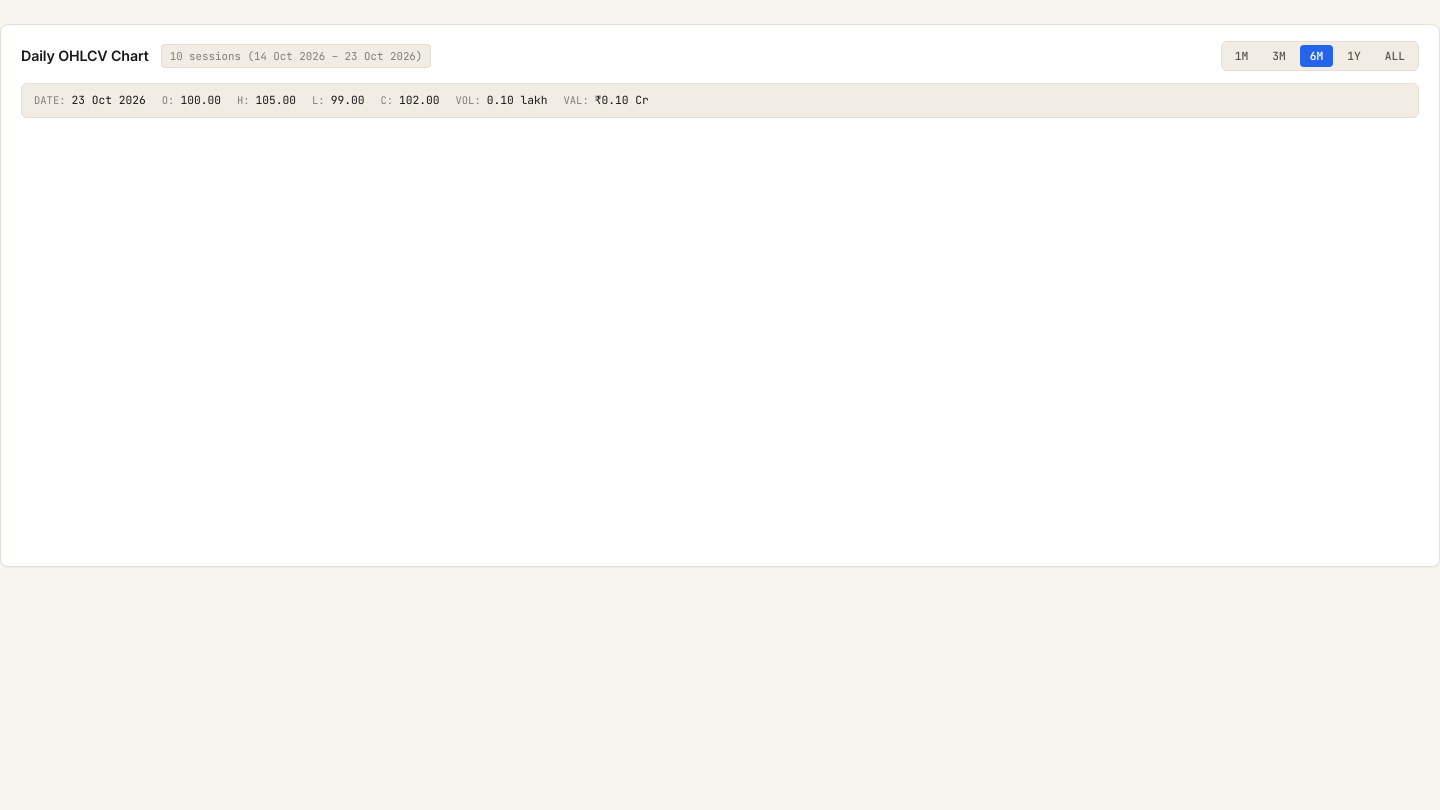
Scenario: PriceChart Component › fetches all available history without from date and shows coverage notice for limited sets
# Click ALL
Click the button "ALL".
click(1395, 56)  # box 1375,45 -> 1415,67
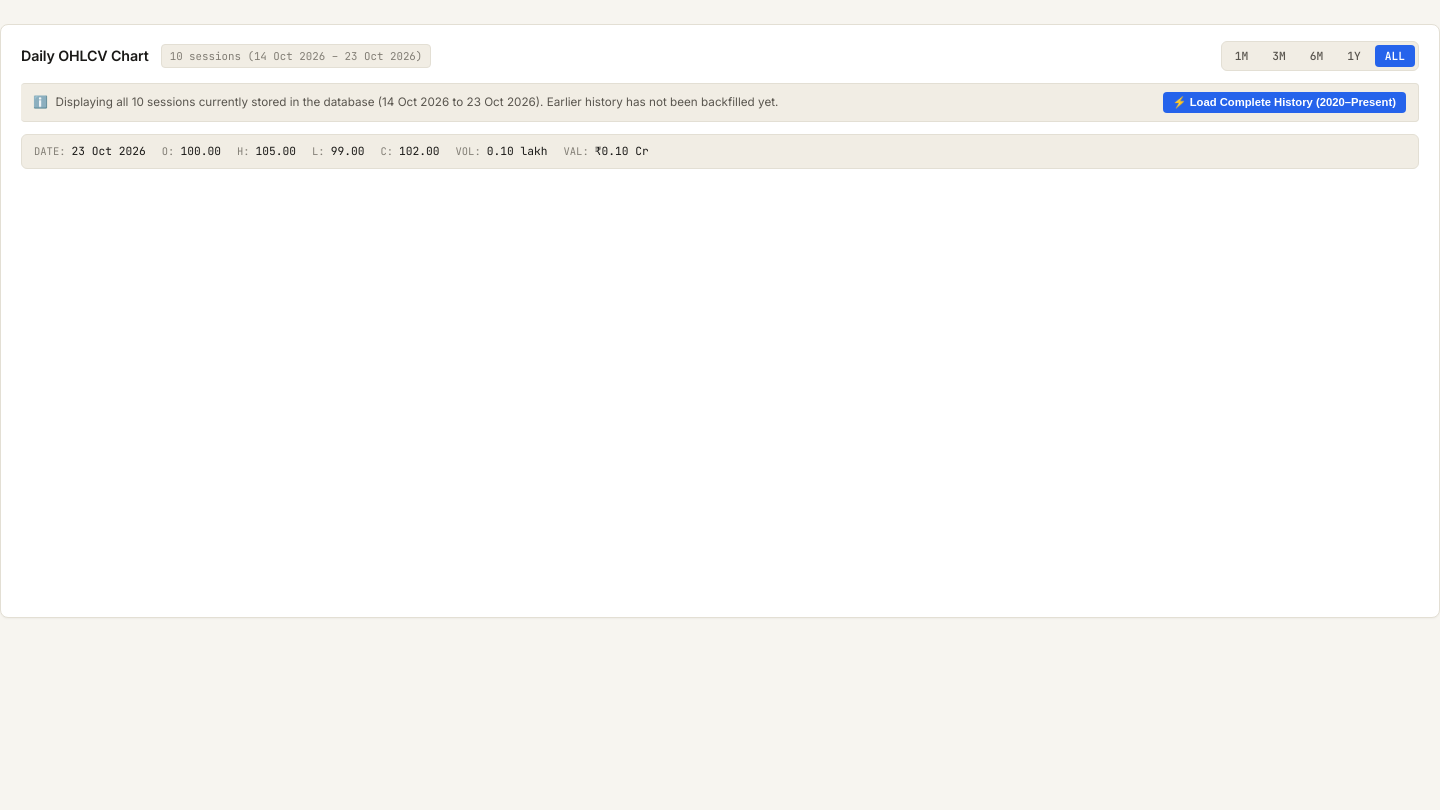
Expected: the text titled "Available history" shows "10 sessions", 161,44 -> 431,68
Now the element that starts with "Displaying all" shows "Displaying all 10 sessions currently stored in the database", box 21,83 -> 1419,122
